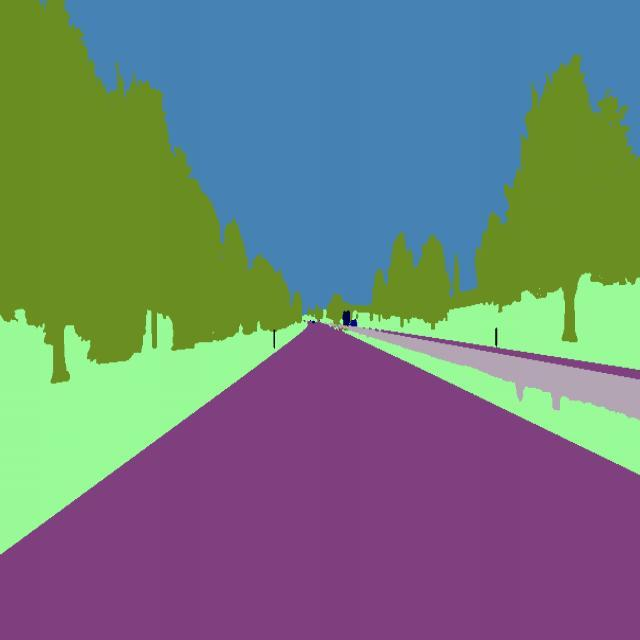safe: (343, 306, 351, 332), (349, 322, 360, 331)
